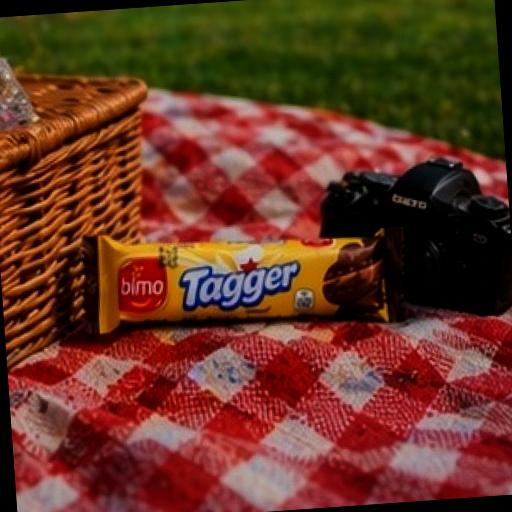tagger: (50, 126, 446, 406)
